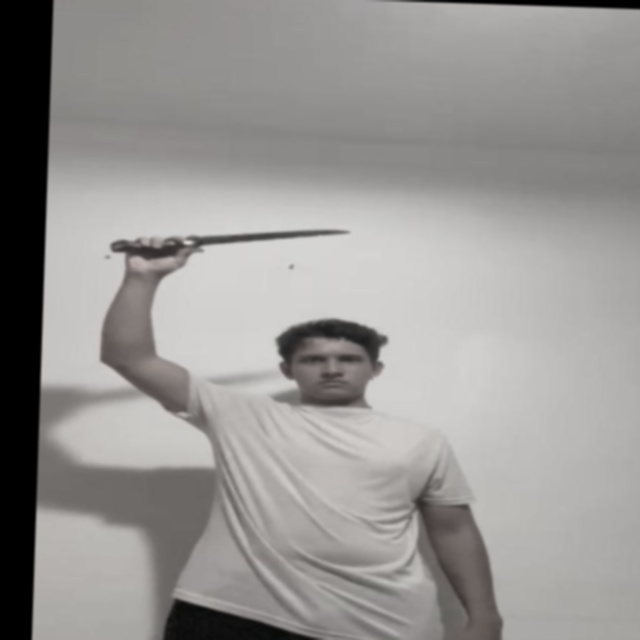Sharp-Object: (194, 224, 351, 250)
